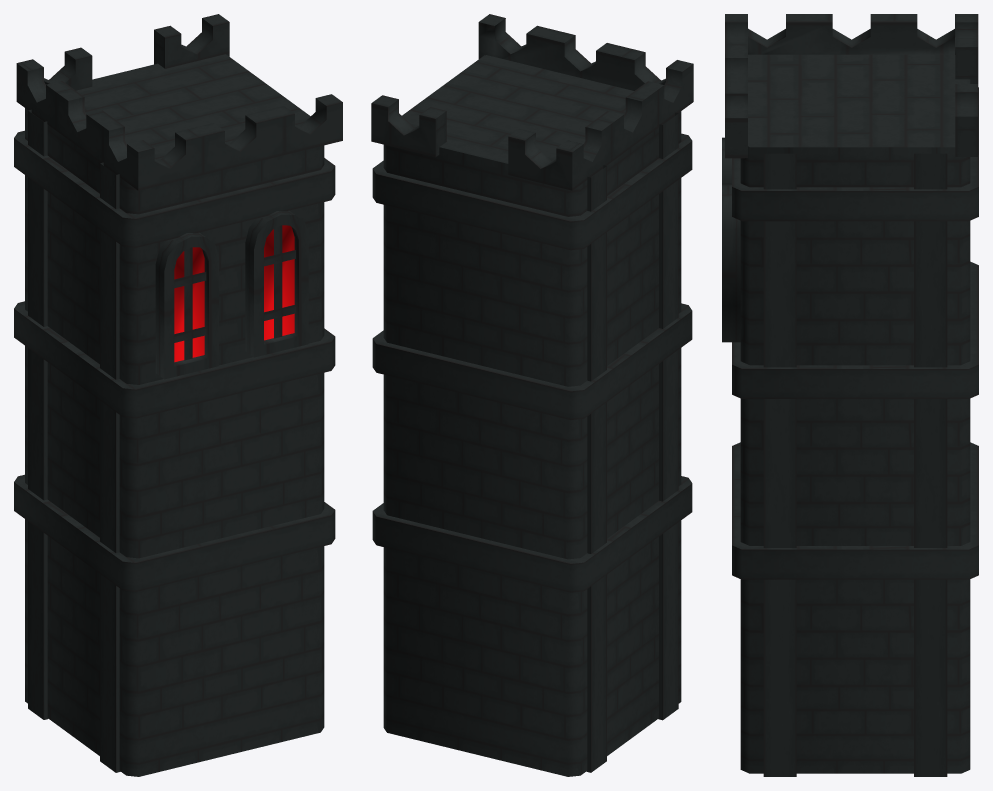
The model's file is Coast Spire U 2.fbx.
The picture shows the model from 3 angles, left to right: view 1: azimuth 30°, elevation 25°; view 2: azimuth 150°, elevation 25°; view 3: azimuth 270°, elevation 25°; orthographic projection. The views are drawn at different scales.
Parts seen in each view (by area): view 1: Spire U2; view 2: Spire U2; view 3: Spire U2.
Part boxes in pixels (x1=…): Spire U2: x1=14, y1=14, x2=342, y2=776; Spire U2: x1=371, y1=14, x2=693, y2=776; Spire U2: x1=722, y1=14, x2=978, y2=776.
Size of the model in its own units: 3351 by 9543 by 3364.
